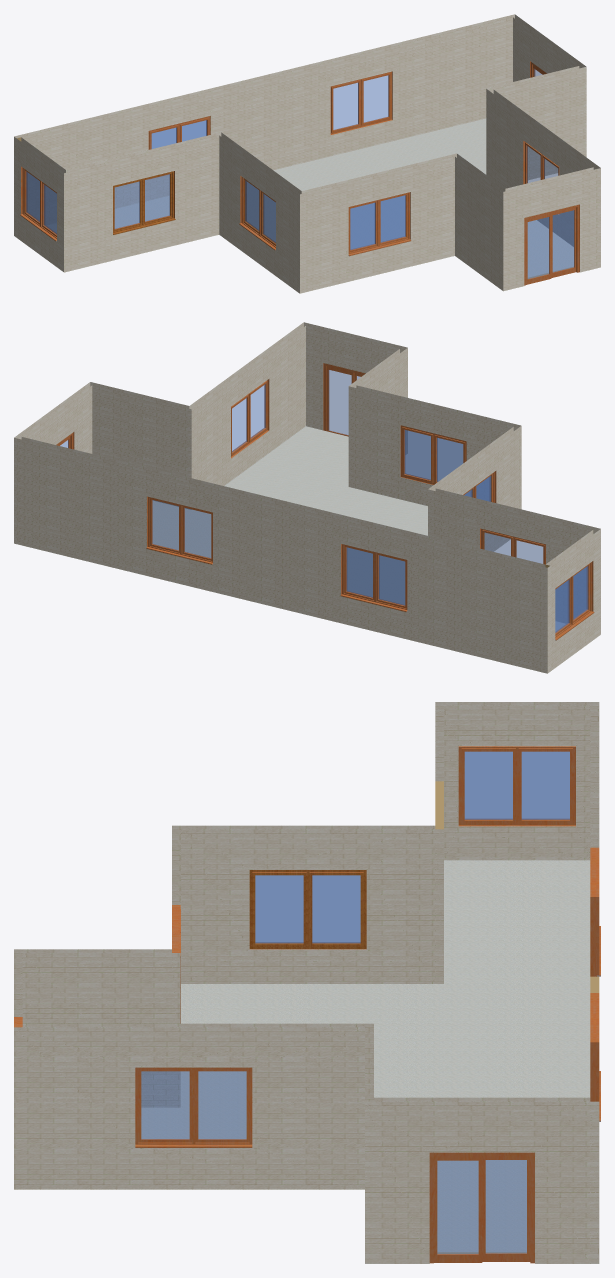
File: telhado37a.gltf
The picture shows the model from 3 angles, top to bottom: view 1: azimuth 30°, elevation 25°; view 2: azimuth 150°, elevation 25°; view 3: azimuth 270°, elevation 25°; orthographic projection. The views are drawn at different scales.
Bounding box in the file's own units: 16.18 × 3.06 × 10.03.
Materials: 9 (4 with a texture image).
